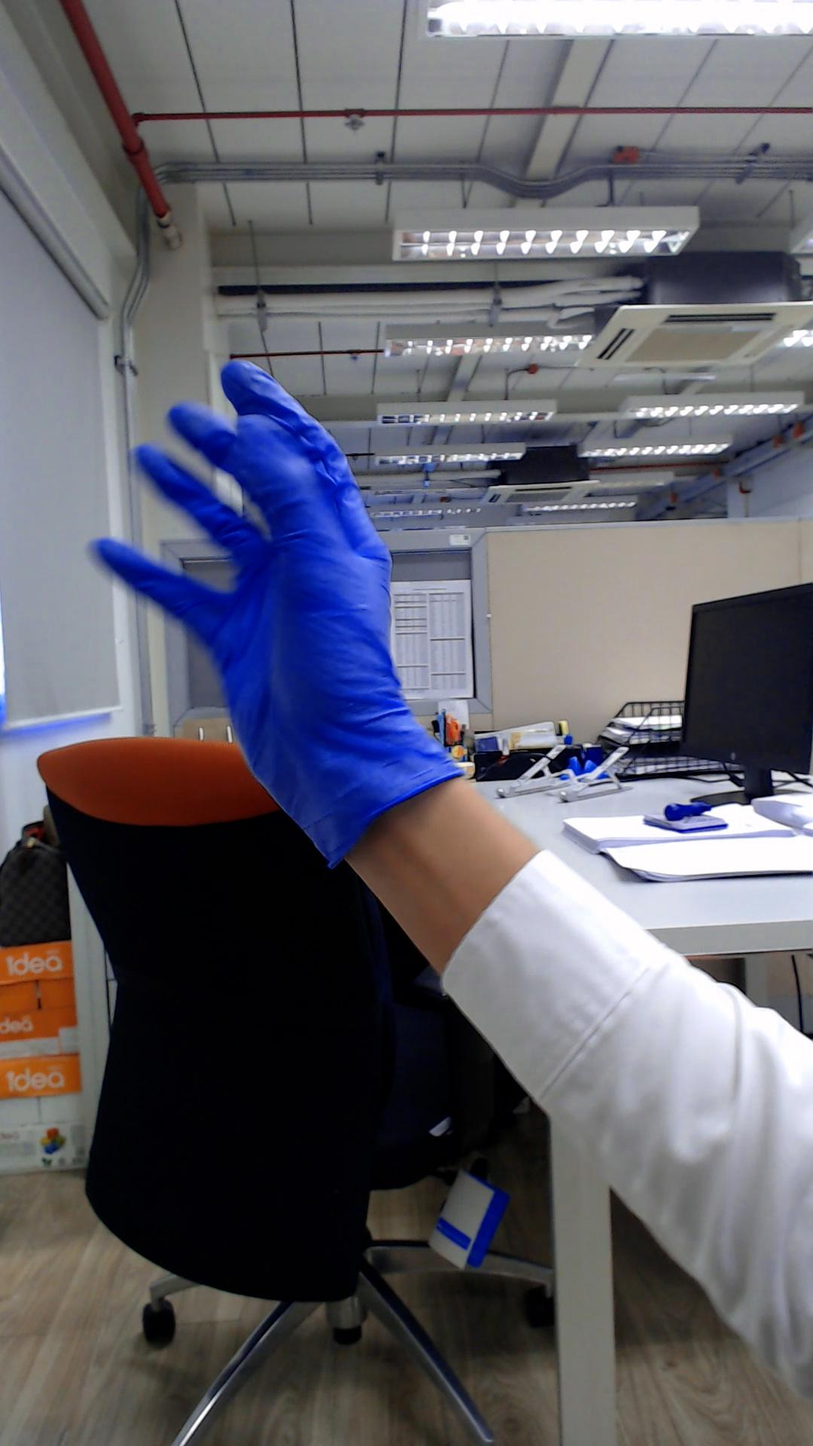gloves: (91, 337, 436, 738)
